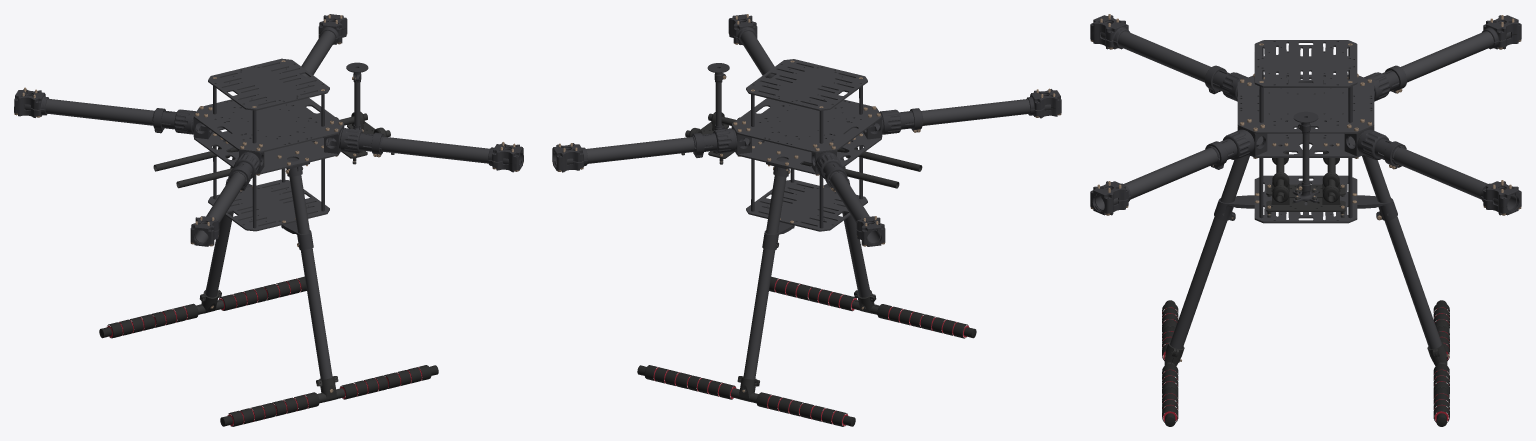
Rendered from x650_frame.glb.
The picture shows the model from 3 angles, left to right: view 1: azimuth 30°, elevation 25°; view 2: azimuth 150°, elevation 25°; view 3: azimuth 270°, elevation 25°; orthographic projection. The views are drawn at different scales.
Parts seen in each view (by area): view 1: top_plate__1, upper_board__1, battery_board__1, gear_leg__2, bottom_plate__1, arm_tube__M1, arm_tube__M2, gear_leg__1, arm_tube__M4, arm_tube__M3, gear_foam__2, gear_foam__6 (+11 smaller); view 2: top_plate__1, upper_board__1, battery_board__1, gear_leg__1, bottom_plate__1, arm_tube__M3, arm_tube__M4, gear_leg__2, arm_tube__M2, arm_tube__M1, gear_foam__6, gear_foam__2 (+12 smaller); view 3: top_plate__1, upper_board__1, gear_leg__1, gear_leg__2, battery_board__1, bottom_plate__1, arm_tube__M1, arm_tube__M3, arm_tube__M4, arm_tube__M2, platform_board__1, motor_base_top__M4 (+13 smaller).
Part boxes in pixels (box(x1,y1,x2,y2)): top_plate__1: box(194, 98, 343, 152); upper_board__1: box(208, 58, 329, 110); battery_board__1: box(208, 179, 329, 231); gear_leg__2: box(289, 175, 332, 379); bottom_plate__1: box(194, 127, 341, 174); arm_tube__M1: box(363, 136, 520, 164); arm_tube__M2: box(24, 98, 170, 125); gear_leg__1: box(205, 157, 234, 297); arm_tube__M4: box(195, 165, 245, 243); arm_tube__M3: box(301, 30, 335, 77); gear_foam__2: box(106, 314, 155, 338); gear_foam__6: box(227, 403, 276, 426); top_plate__1: box(732, 98, 881, 153); upper_board__1: box(746, 59, 867, 110); battery_board__1: box(746, 179, 867, 231); gear_leg__1: box(743, 175, 786, 379); bottom_plate__1: box(734, 128, 881, 174); arm_tube__M3: box(556, 137, 712, 164); arm_tube__M4: box(905, 99, 1050, 125); gear_leg__2: box(841, 157, 870, 297); arm_tube__M2: box(829, 165, 880, 243); arm_tube__M1: box(740, 31, 774, 77); gear_foam__6: box(920, 314, 969, 338); gear_foam__2: box(799, 403, 848, 426); top_plate__1: box(1237, 74, 1374, 133); upper_board__1: box(1254, 40, 1357, 87); gear_leg__1: box(1362, 155, 1441, 357); gear_leg__2: box(1170, 155, 1249, 357); battery_board__1: box(1254, 175, 1357, 223); bottom_plate__1: box(1237, 126, 1374, 157); arm_tube__M1: box(1095, 147, 1232, 210); arm_tube__M3: box(1379, 143, 1516, 210); arm_tube__M4: box(1100, 31, 1219, 85); arm_tube__M2: box(1390, 31, 1510, 85); platform_board__1: box(1266, 184, 1345, 211); motor_base_top__M4: box(1090, 15, 1129, 41).
Size of what is drawn, in the model's own units: 0.5047 by 0.3975 by 0.5047.
